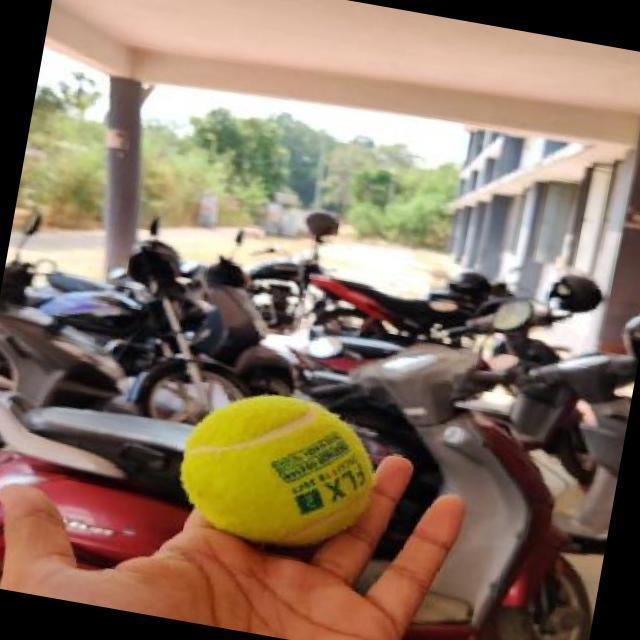-: (149, 365, 396, 565)
